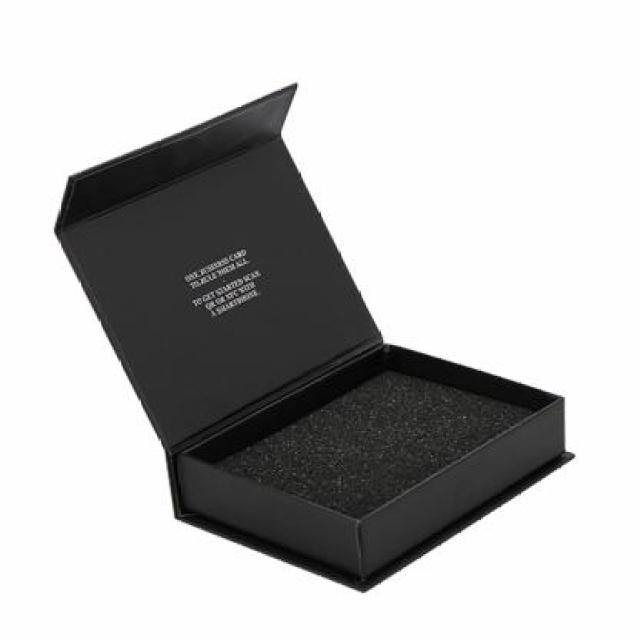box: (46, 74, 599, 610)
